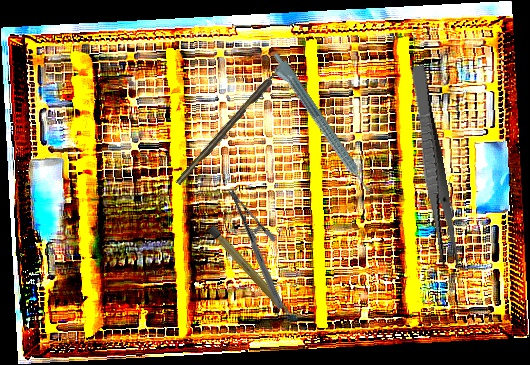Dressing Forceps: (405, 64, 462, 269)
Handpiece: (264, 50, 374, 199)
Hook Surgical: (174, 61, 288, 187)
Needle Holder: (188, 186, 323, 311)
Scalpel Handle: (206, 223, 294, 320)
